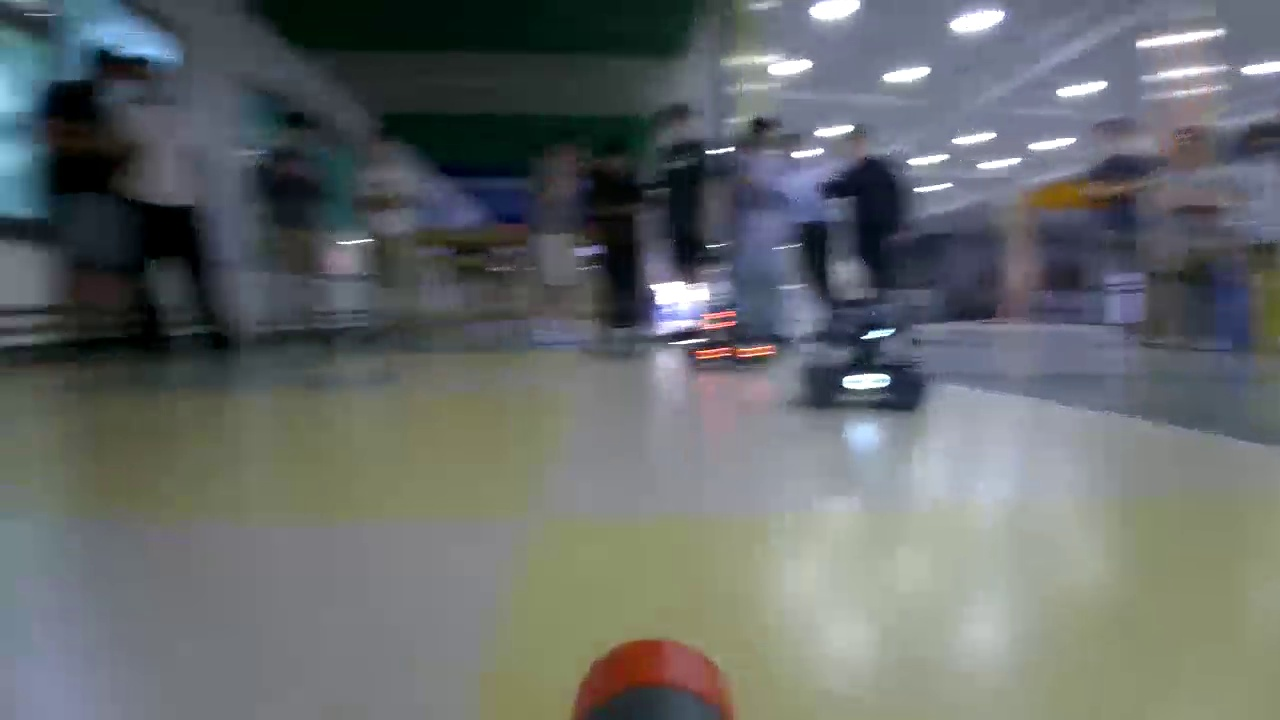robot: (803, 328, 924, 411), (692, 303, 782, 367)
